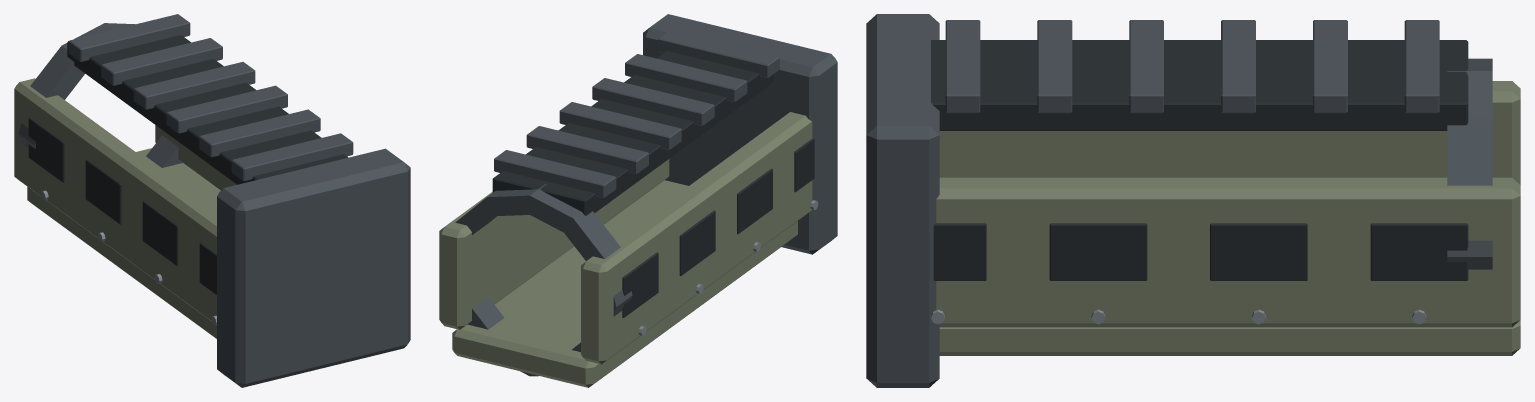
File: weapon_lynx45_handguard.glb
3 renders of one model, left to right at view 1: azimuth 30°, elevation 25°; view 2: azimuth 150°, elevation 25°; view 3: azimuth 270°, elevation 25°, orthographic. The views are drawn at different scales.
Parts seen in each view (by area): view 1: Geometry_weapon_lynx45_handguard; view 2: Geometry_weapon_lynx45_handguard; view 3: Geometry_weapon_lynx45_handguard.
Part boxes in pixels (x1,y1,x2,y2): Geometry_weapon_lynx45_handguard: [14, 14, 410, 387]; Geometry_weapon_lynx45_handguard: [439, 14, 837, 387]; Geometry_weapon_lynx45_handguard: [866, 14, 1520, 387].
Size of the model in its own units: 0.0817 by 0.087 by 0.1875.
